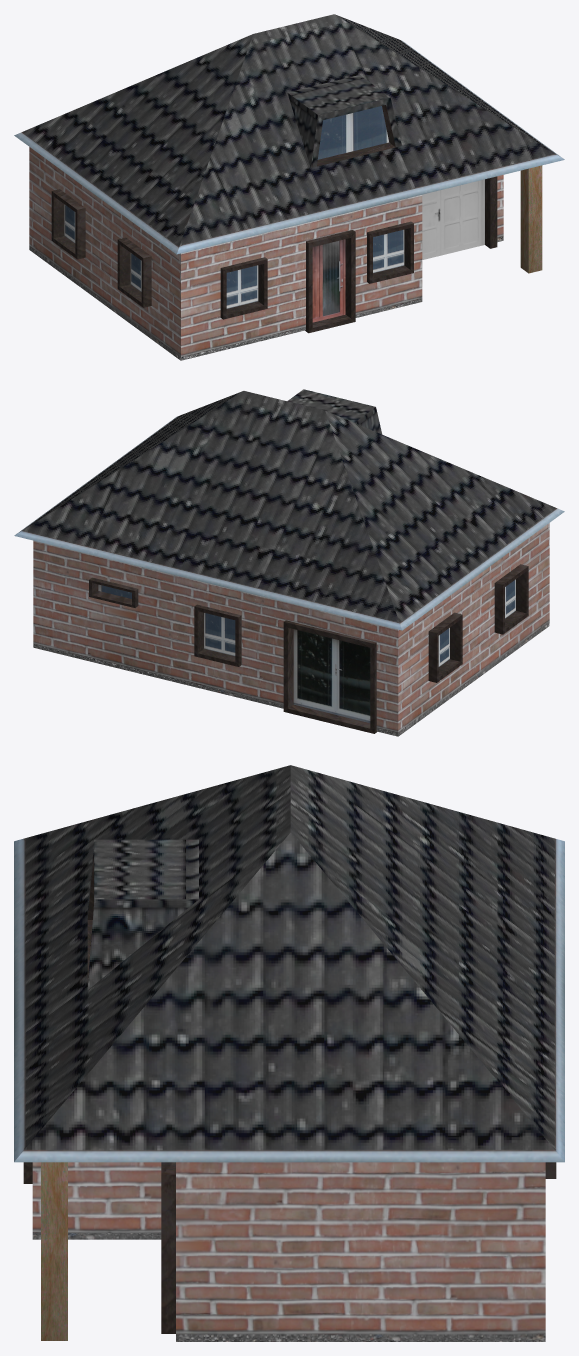
Rendered from family_house_02.glb.
3 views of the same model, one above another, from view 1: azimuth 30°, elevation 25°; view 2: azimuth 150°, elevation 25°; view 3: azimuth 270°, elevation 25° (orthographic). The views are drawn at different scales.
Visible parts, largest first — view 1: house3_baked_Cube.045; view 2: house3_baked_Cube.045; view 3: house3_baked_Cube.045.
Part boxes in pixels (x1,y1,x2,y2): house3_baked_Cube.045: (14,14,564,360); house3_baked_Cube.045: (14,389,564,736); house3_baked_Cube.045: (14,765,564,1341).
Size of the model in its own units: 2.96 by 1.72 by 2.15.
1 material, 1 textured.
